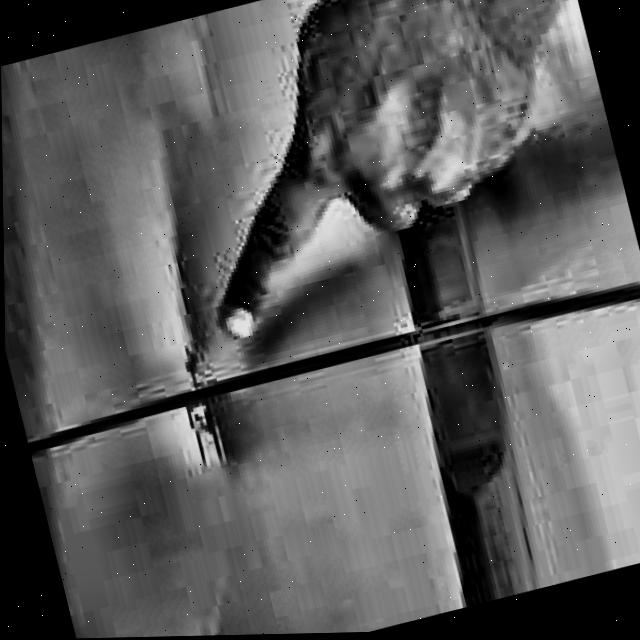door_dent: (129, 253, 331, 485)
